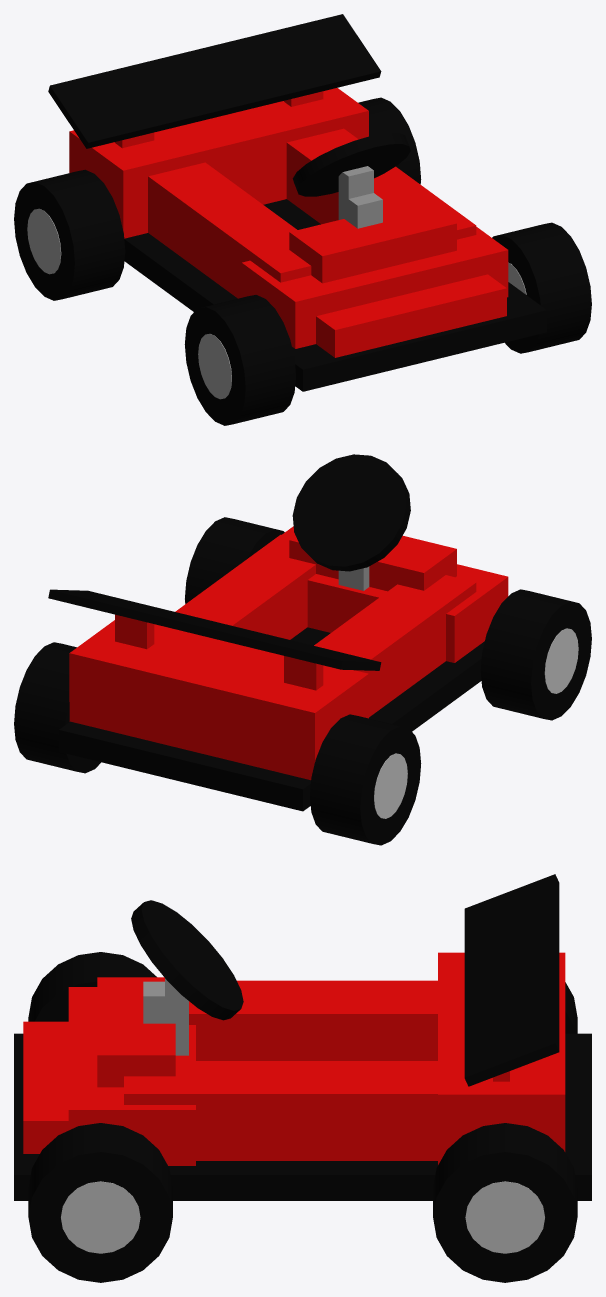
The model's file is Kart.glb.
3 views of the same model, one above another, from view 1: azimuth 30°, elevation 25°; view 2: azimuth 150°, elevation 25°; view 3: azimuth 270°, elevation 25° (orthographic). The views are drawn at different scales.
Visible parts, largest first — view 1: Spoiler.001, Cube__1_.001, Base.001, Cube__5_.001, Cube.001, Right_Wheel_1.001, Right_Wheel.001, Cube__2_.001, Cube__3_.001, Left_Wheel_1.001, Cube__4_.001, Steering_Wheel.001 (+5 smaller); view 2: Cube__1_.001, Base.001, Steering_Wheel.001, Right_Wheel_1.001, Right_Wheel.001, Cube__5_.001, Cube__4_.001, Cube.001, Left_Wheel.001, Spoiler.001, Cube__3_.001, Left_Wheel_1.001 (+5 smaller); view 3: Cube__4_.001, Cube__5_.001, Spoiler.001, Base.001, Left_Wheel_1.001, Left_Wheel.001, Cube__1_.001, Cube.001, Steering_Wheel.001, Cube__3_.001, Cube__2_.001, Wheel_1.001 (+4 smaller).
Boxes of the visible parts, box(x1,y1,x2,y2) form: Spoiler.001: box(48, 14, 381, 148); Cube__1_.001: box(69, 88, 368, 238); Base.001: box(124, 199, 546, 391); Cube__5_.001: box(148, 162, 311, 298); Cube.001: box(241, 227, 508, 348); Right_Wheel_1.001: box(184, 295, 295, 425); Right_Wheel.001: box(14, 169, 125, 300); Cube__2_.001: box(316, 274, 506, 357); Cube__3_.001: box(289, 199, 456, 283); Left_Wheel_1.001: box(492, 222, 591, 353); Cube__4_.001: box(286, 128, 476, 239); Steering_Wheel.001: box(292, 132, 410, 196); Cube__1_.001: box(69, 620, 368, 780); Base.001: box(59, 627, 484, 811); Steering_Wheel.001: box(292, 454, 410, 571); Right_Wheel_1.001: box(480, 589, 591, 720); Right_Wheel.001: box(310, 714, 421, 845); Cube__5_.001: box(314, 575, 476, 717); Cube__4_.001: box(175, 534, 315, 639); Cube.001: box(282, 526, 508, 662); Left_Wheel.001: box(14, 642, 100, 773); Spoiler.001: box(48, 589, 381, 670); Cube__3_.001: box(289, 536, 456, 591); Left_Wheel_1.001: box(185, 517, 284, 603); Cube__4_.001: box(124, 1061, 437, 1160); Cube__5_.001: box(189, 980, 437, 1060); Spoiler.001: box(464, 874, 559, 1086); Base.001: box(14, 1033, 591, 1200); Left_Wheel_1.001: box(28, 1123, 172, 1282); Left_Wheel.001: box(433, 1123, 577, 1282); Cube__1_.001: box(438, 952, 565, 1164); Cube.001: box(68, 987, 195, 1165); Steering_Wheel.001: box(131, 900, 243, 1020); Cube__3_.001: box(97, 977, 175, 1087); Cube__2_.001: box(23, 1021, 68, 1153); Wheel_1.001: box(465, 1181, 544, 1253).
Size of the model in its own units: 1.64 by 1.04 by 2.
